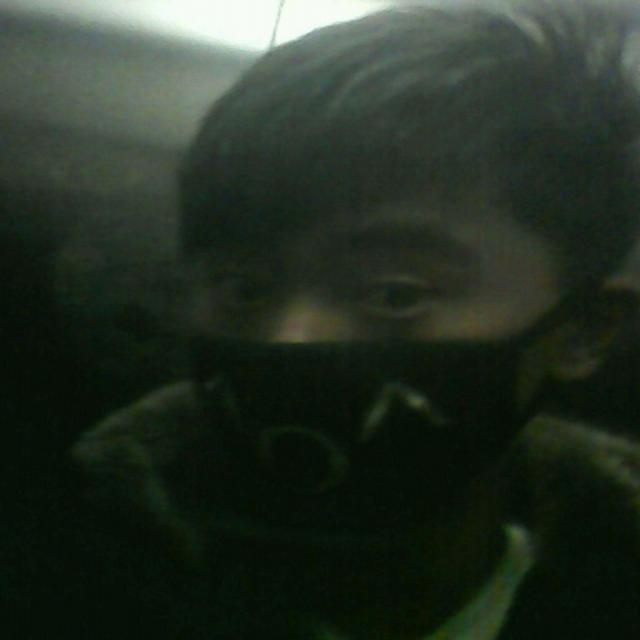mask: (189, 197, 516, 532)
